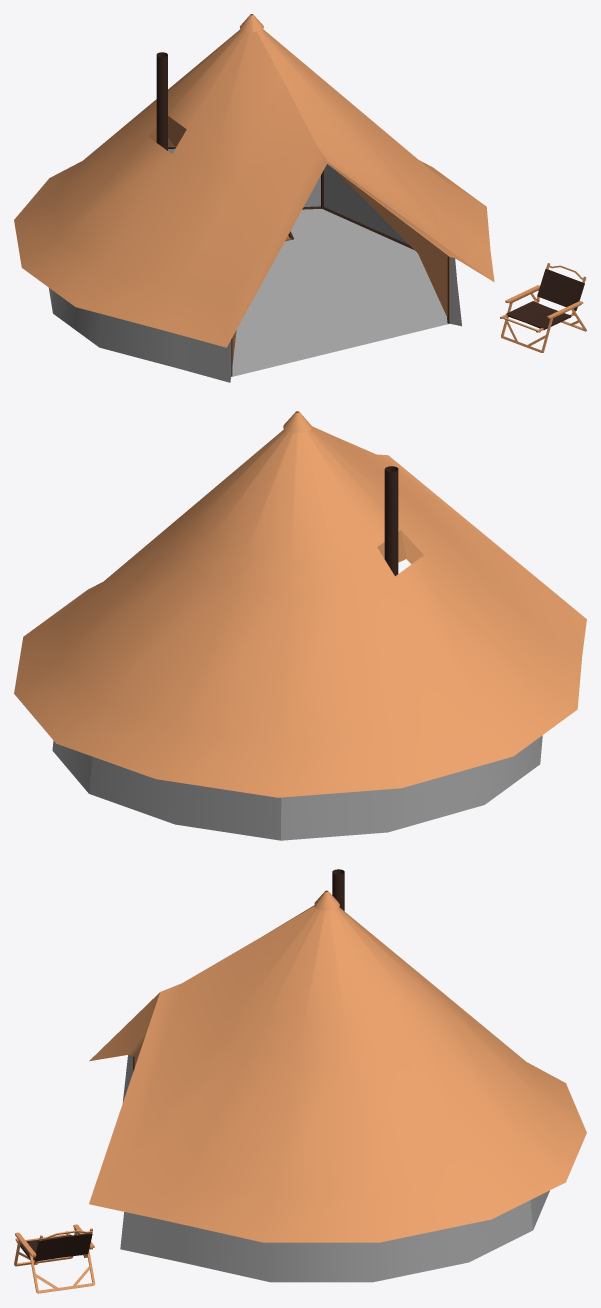
The model's file is 230306_Tent.fbx.
3 renders of one model, top to bottom at view 1: azimuth 30°, elevation 25°; view 2: azimuth 150°, elevation 25°; view 3: azimuth 270°, elevation 25°, orthographic. The views are drawn at different scales.
Parts seen in each view (by area): view 1: Circle, Plane.001, Circle.002, Cube.001, Circle.001; view 2: Circle, Cube.001; view 3: Circle, Plane.001.
Part boxes in pixels (<box>): Circle: <box>14,14,494,382</box>; Plane.001: <box>500,263,586,352</box>; Circle.002: <box>232,170,449,365</box>; Cube.001: <box>156,52,167,150</box>; Circle.001: <box>168,147,449,376</box>; Circle: <box>14,411,586,840</box>; Cube.001: <box>384,466,398,576</box>; Circle: <box>89,890,586,1282</box>; Plane.001: <box>14,1224,95,1293</box>.
Bounding box in the file's own units: 248 × 156 × 273.
